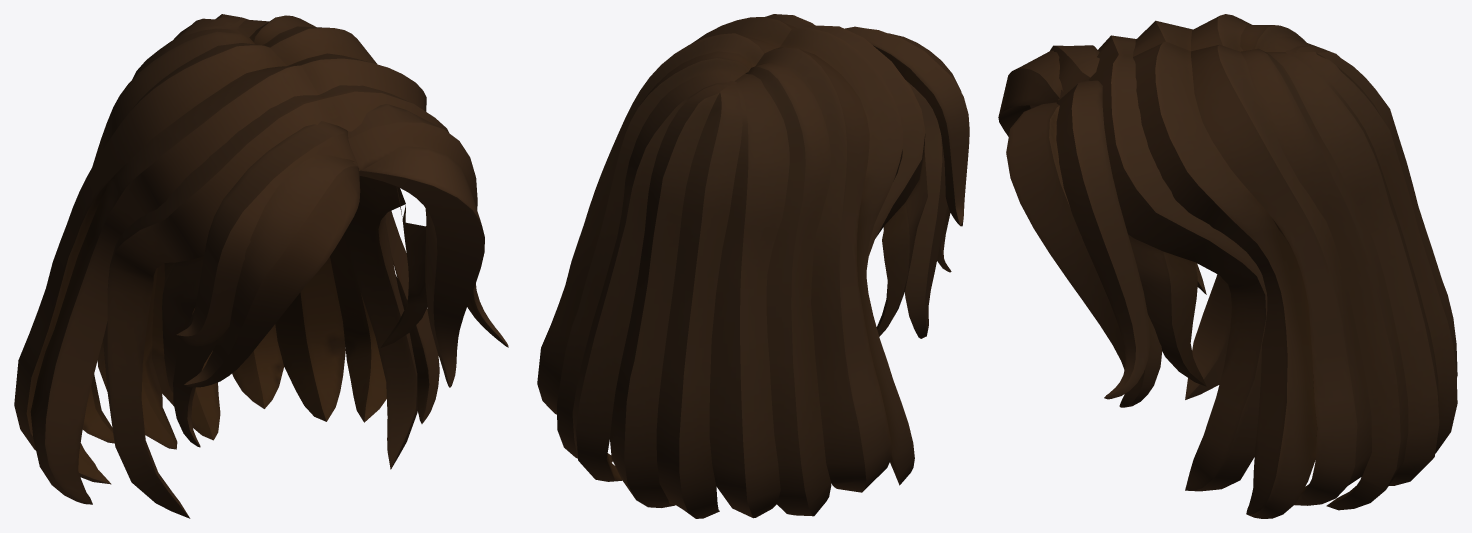
Rendered from long.glb.
3 views of the same model, side by side, from view 1: azimuth 30°, elevation 25°; view 2: azimuth 150°, elevation 25°; view 3: azimuth 270°, elevation 25° (orthographic). The views are drawn at different scales.
Visible parts, largest first — view 1: long; view 2: long; view 3: long.
Part boxes in pixels (x1=…): long: x1=14, y1=14, x2=508, y2=518; long: x1=537, y1=14, x2=969, y2=518; long: x1=998, y1=14, x2=1457, y2=518.
Size of the model in its own units: 0.2447 by 0.278 by 0.2677.
Materials: 1 (1 with a texture image).
